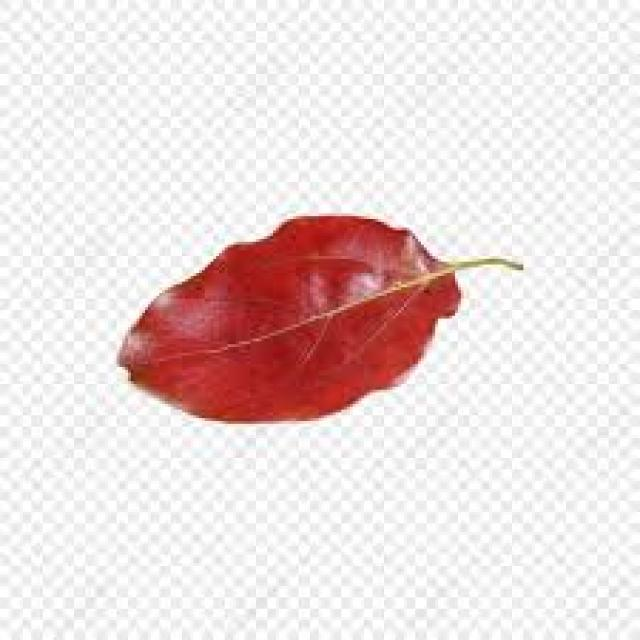leaf: (116, 212, 522, 424)
